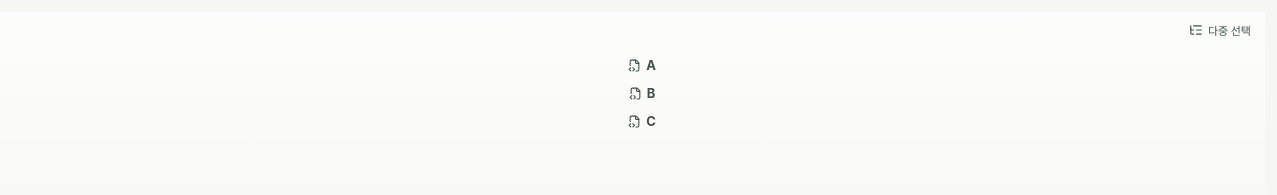
Test: VaultFileTree multi-select UI › toggles Cmd/Ctrl selection and clears it on an ordinary click
What coordinates should you click on to do the following:
click the button "다중 선택"
I would click on:
 (1220, 30)
Its box is [1181,15,1259,45].
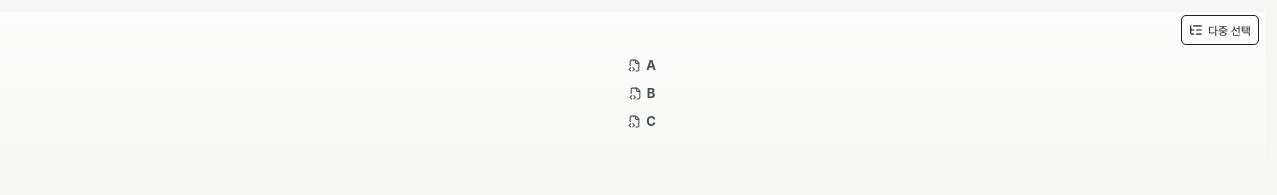
Expected: the button "다중 선택" is pressed, [1181,15,1259,45]
What coordinates should you click on to do the following:
click the list item "A"
I would click on:
 (632, 65)
Its box is [5,51,1260,79].
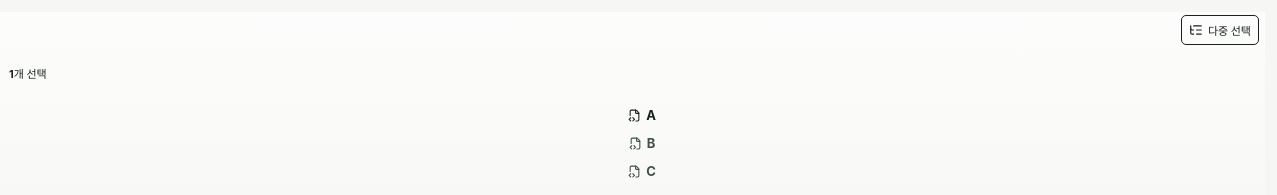
What coordinates should you click on to do the following:
click the list item "B"
I would click on:
 (632, 143)
Its box is [5,129,1260,157].
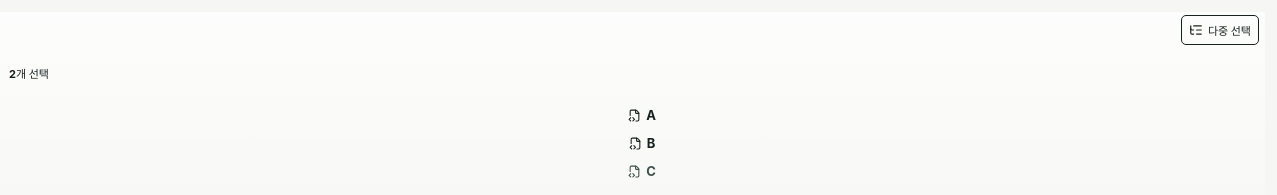
Expected: the text "2개 선택" is shown, [9,67,49,81]
What coordinates should you click on to do the following:
click the list item "B"
I would click on:
 (632, 143)
Its box is [5,129,1260,157].
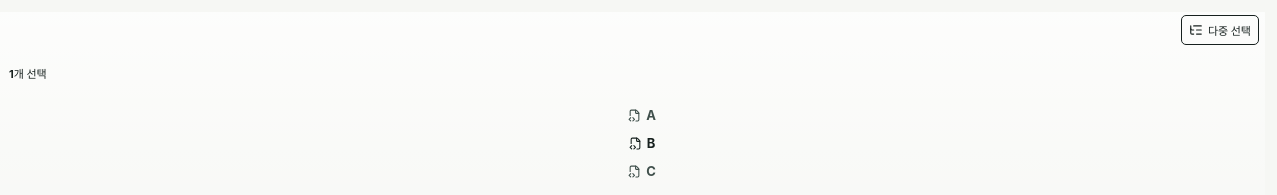
Expected: the text "1개 선택" is shown, [9,67,47,81]
